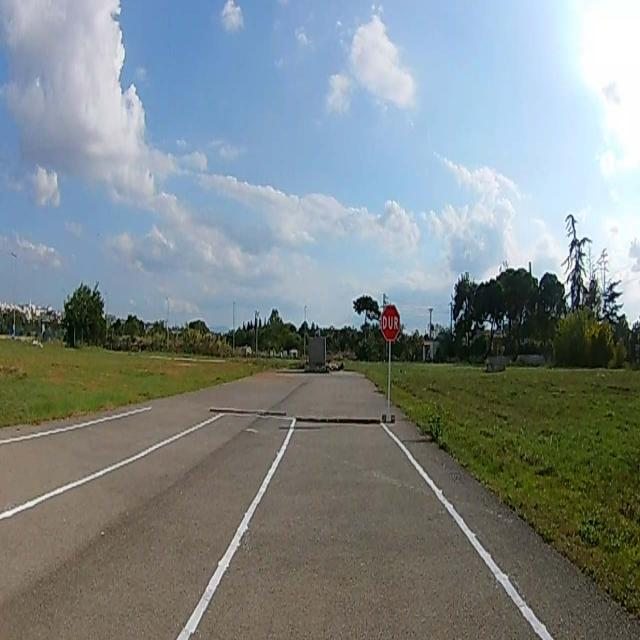dur: (382, 302, 400, 340)
